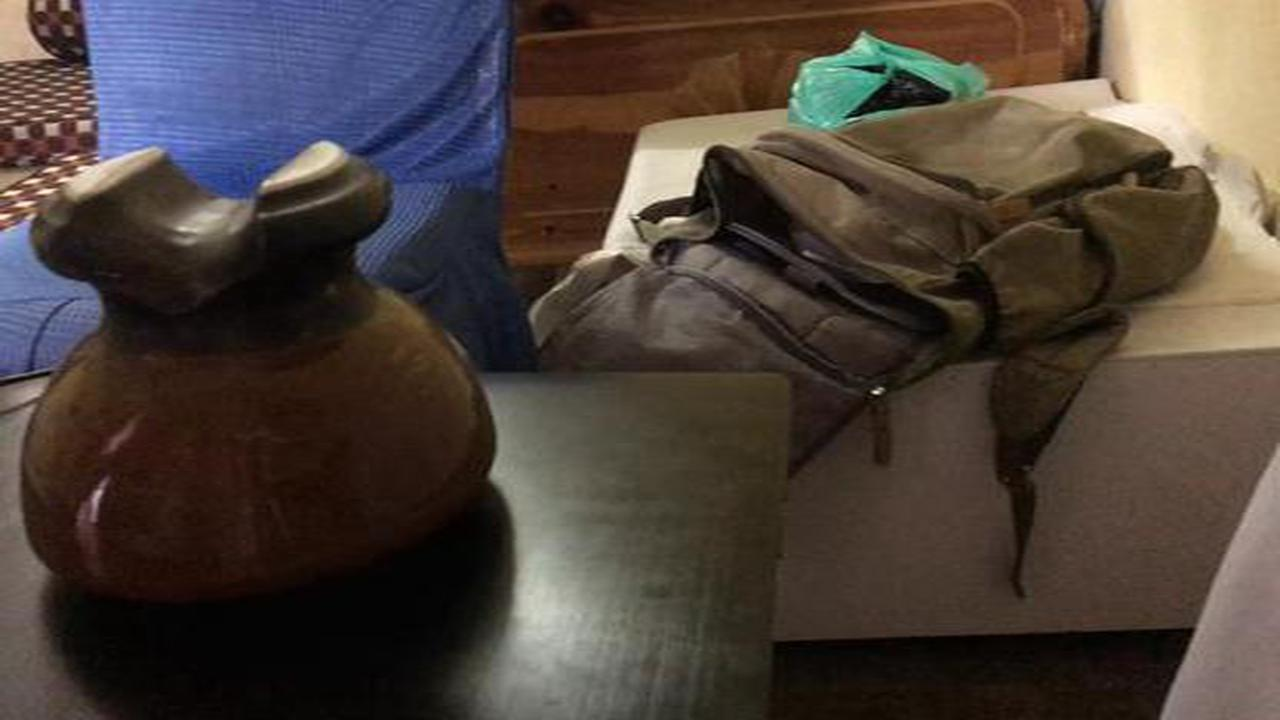insulator_pin: (14, 122, 524, 618)
